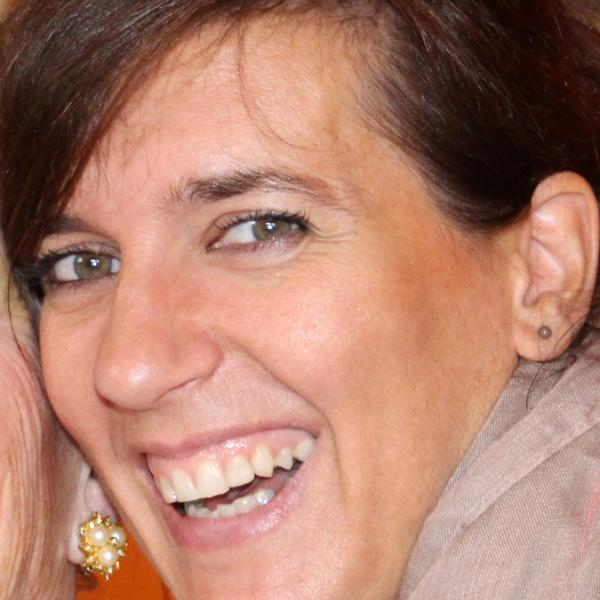Eyes: (196, 201, 321, 268), (38, 234, 132, 298)
